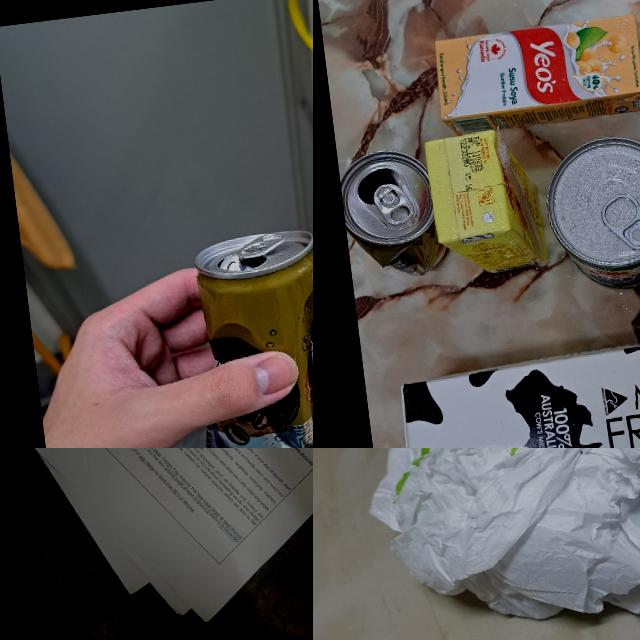aba de lata: (599, 189, 640, 255), (370, 178, 416, 228), (233, 229, 290, 260)
caixinha: (393, 319, 640, 448), (432, 12, 640, 133), (424, 124, 548, 278)
lata: (179, 224, 313, 448), (540, 126, 640, 296), (338, 146, 448, 278)
papel: (0, 448, 313, 640)
sacola plástica: (350, 448, 640, 640)
